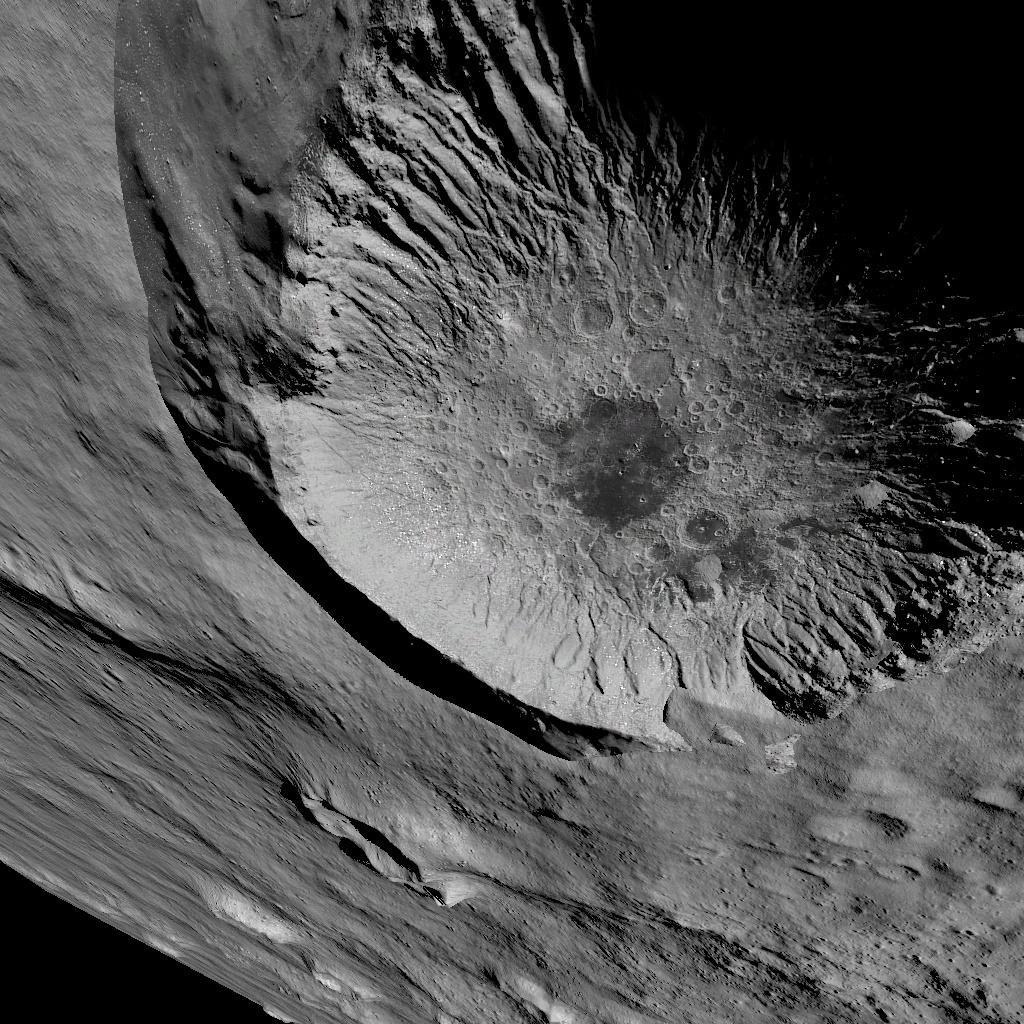Crater: (112, 2, 1023, 767), (250, 776, 444, 926)
Plan surface: (472, 794, 1022, 1024)
